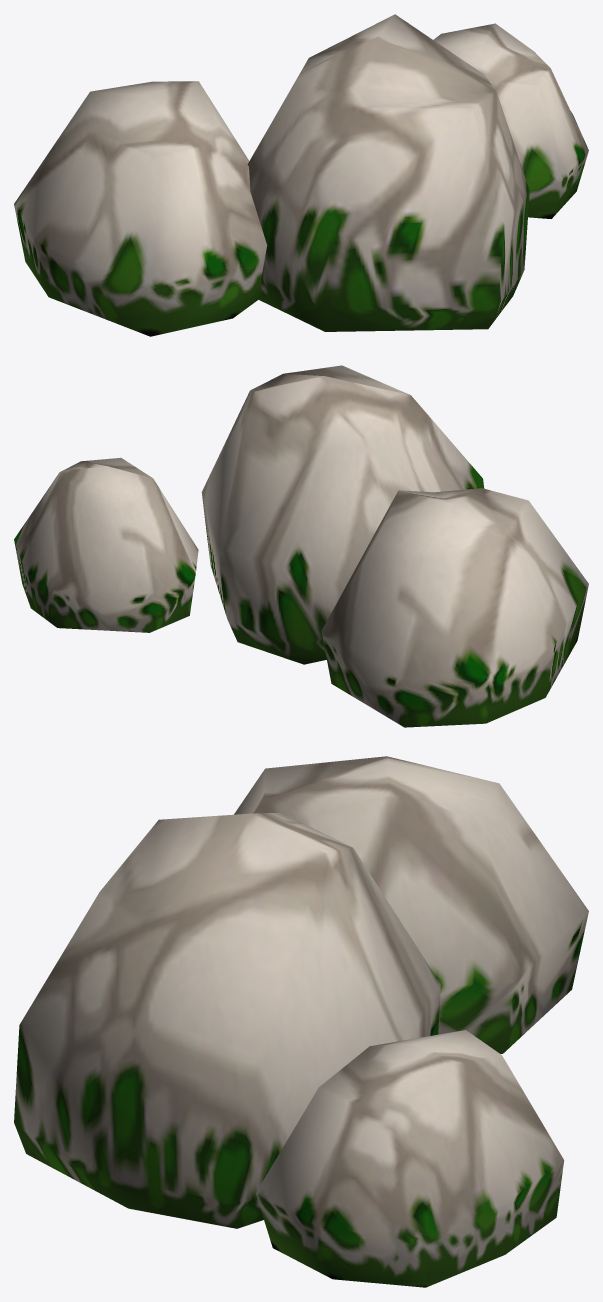
File: RockGroup_02.FBX
3 renders of one model, top to bottom at view 1: azimuth 30°, elevation 25°; view 2: azimuth 150°, elevation 25°; view 3: azimuth 270°, elevation 25°, orthographic. The views are drawn at different scales.
Visible parts, largest first — view 1: RockGroup_02; view 2: RockGroup_02; view 3: RockGroup_02.
Boxes of the visible parts, x1,y1,x2,y2 form: RockGroup_02: (14,14,588,336); RockGroup_02: (14,365,588,727); RockGroup_02: (14,756,588,1287).
Size of the model in its own units: 1.38 by 0.6083 by 0.926.
